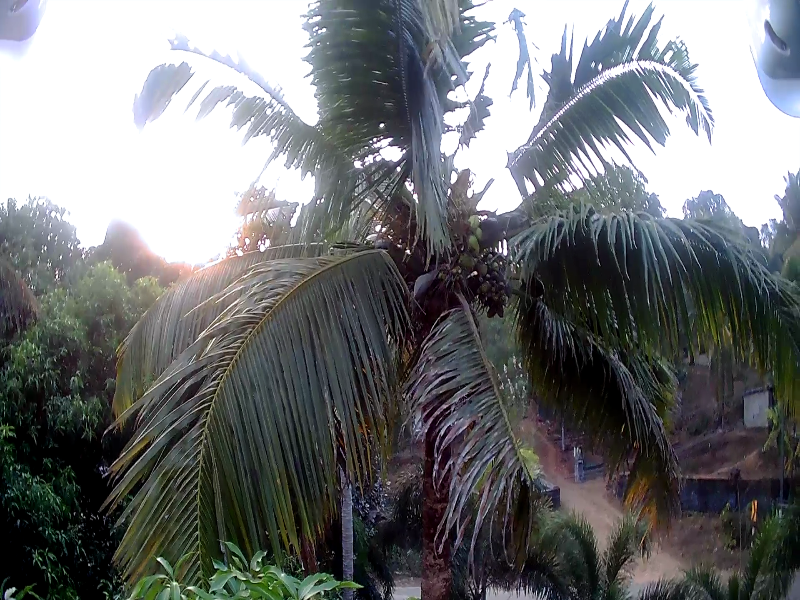coconut: (456, 256, 475, 269), (465, 240, 479, 255), (471, 223, 483, 240), (464, 216, 475, 230), (491, 260, 497, 273), (494, 299, 507, 305), (478, 284, 484, 287)
